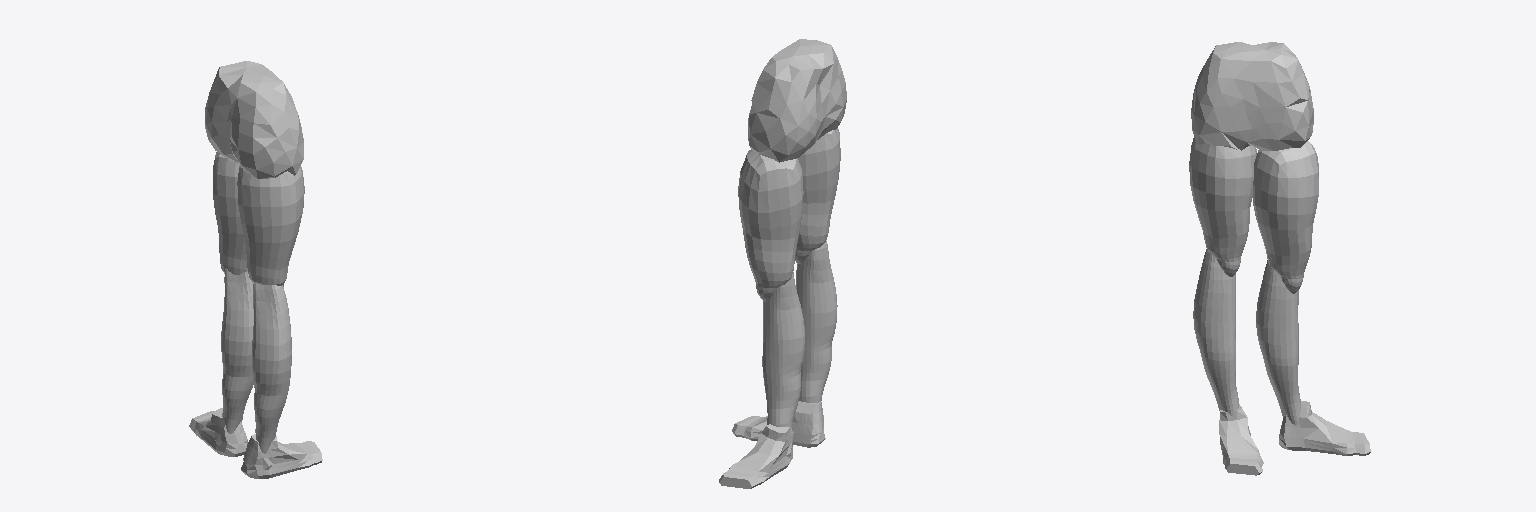
Rendered from legs.obj.
3 renders of one model, left to right at view 1: azimuth 30°, elevation 25°; view 2: azimuth 150°, elevation 25°; view 3: azimuth 270°, elevation 25°, orthographic.
Parts seen in each view (by area): view 1: Bottom.001_Cube.020; view 2: Bottom.001_Cube.020; view 3: Bottom.001_Cube.020.
Boxes of the visible parts, x1,y1,x2,y2 form: Bottom.001_Cube.020: [189, 61, 322, 478]; Bottom.001_Cube.020: [719, 39, 846, 488]; Bottom.001_Cube.020: [1189, 42, 1370, 475].
Bounding box in the file's own units: 0.4107 × 1.66 × 0.6924.